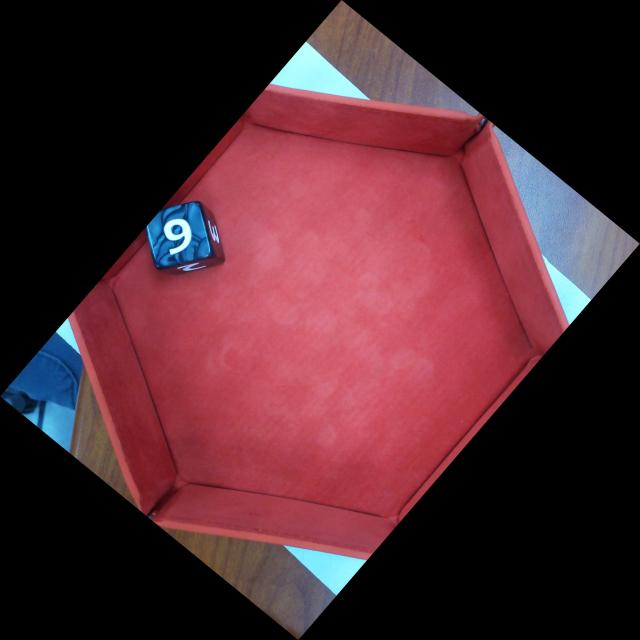dice: (149, 198, 215, 268)
